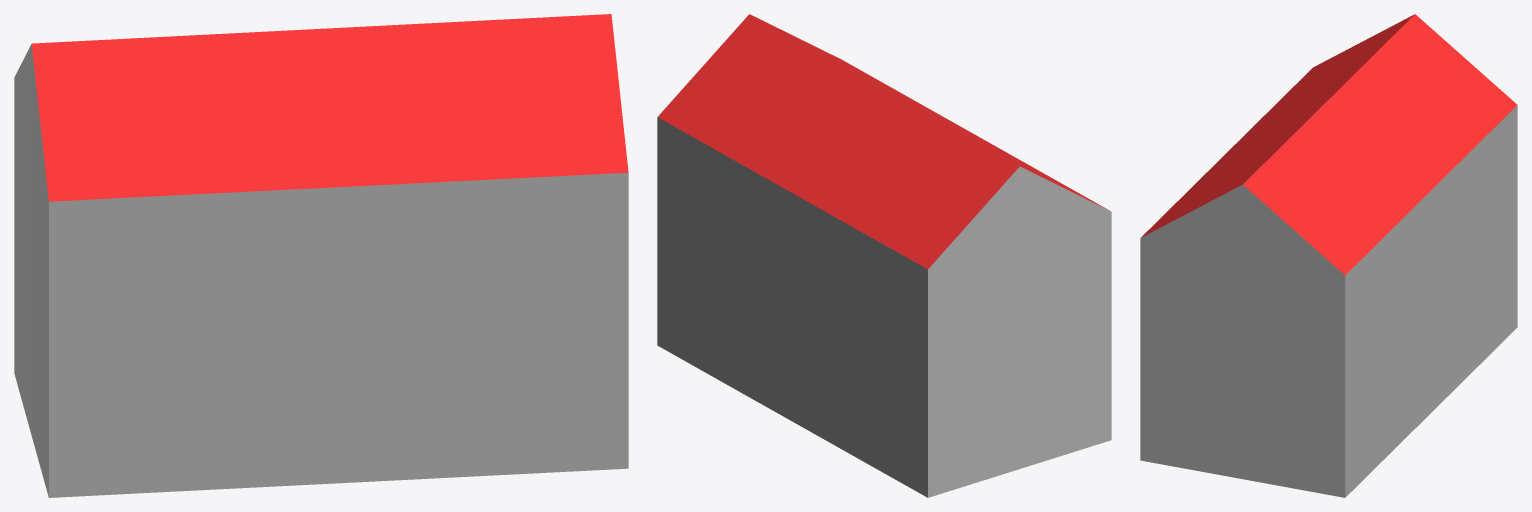
The model's file is DEBY_LOD2_4907211.dae.
3 renders of one model, left to right at view 1: azimuth 30°, elevation 25°; view 2: azimuth 150°, elevation 25°; view 3: azimuth 270°, elevation 25°, orthographic. The views are drawn at different scales.
Size of the model in its own units: 32.96 by 25.28 by 21.79.
